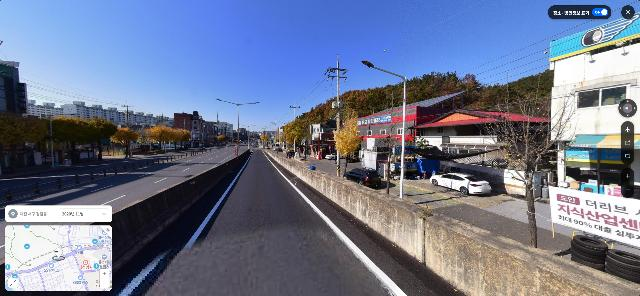ginkgo: (332, 112, 361, 176), (109, 127, 143, 159), (145, 125, 175, 153), (294, 119, 312, 159), (284, 120, 298, 156), (171, 130, 192, 151)
other: (472, 50, 584, 248), (372, 100, 407, 196), (1, 112, 52, 173), (52, 118, 93, 166), (86, 120, 120, 163)
